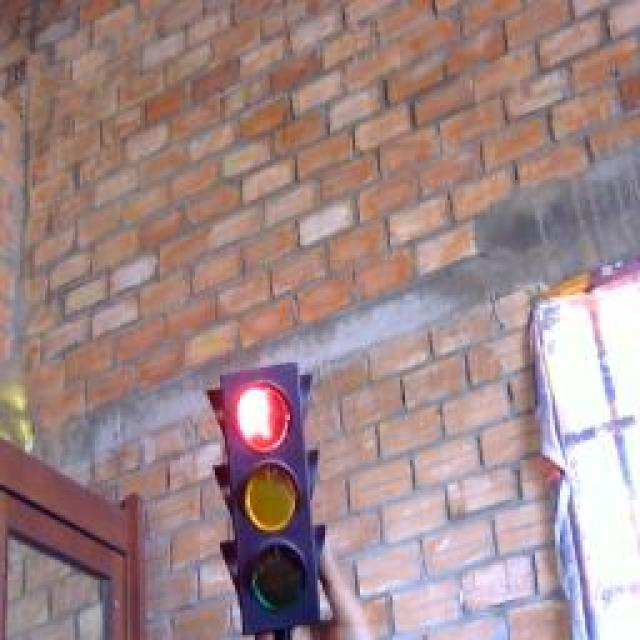-: (228, 375, 303, 455)
